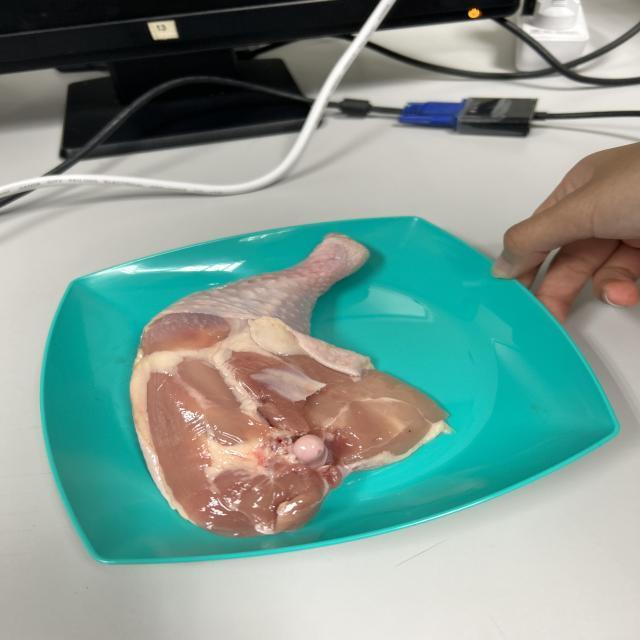quater: (132, 228, 434, 534)
